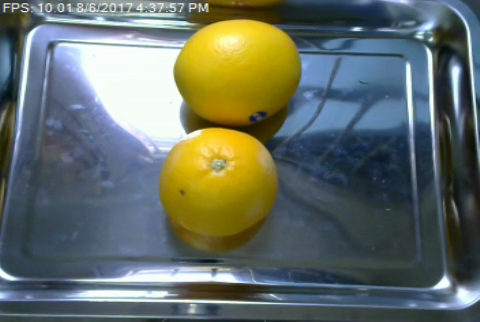Orange: (175, 18, 301, 125), (159, 126, 280, 237)
